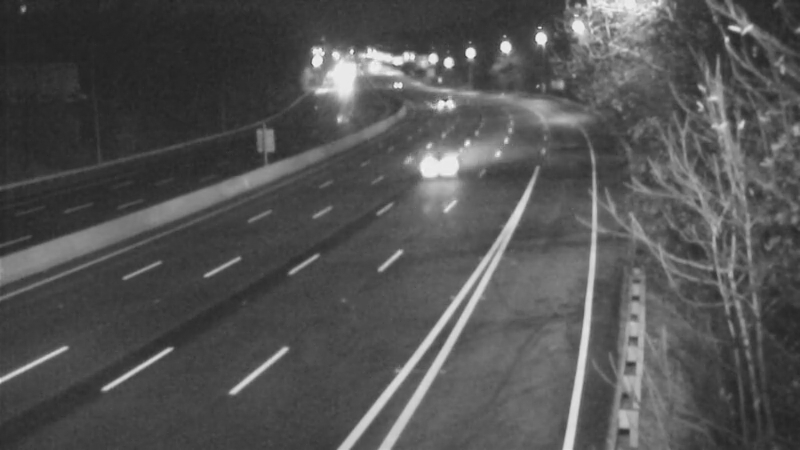vehicle: (393, 127, 473, 207), (371, 61, 421, 111), (412, 74, 462, 124)
